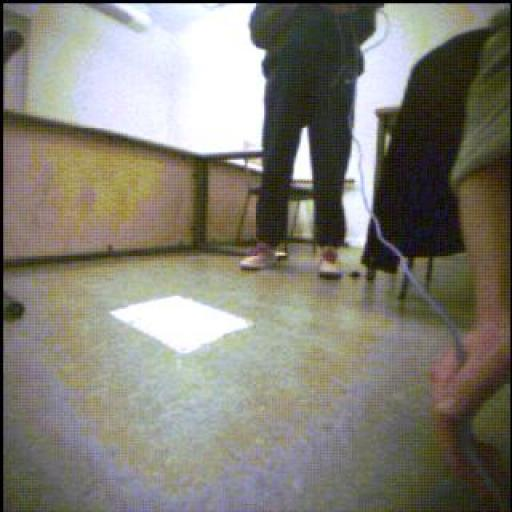Pad: (111, 297, 254, 355)
